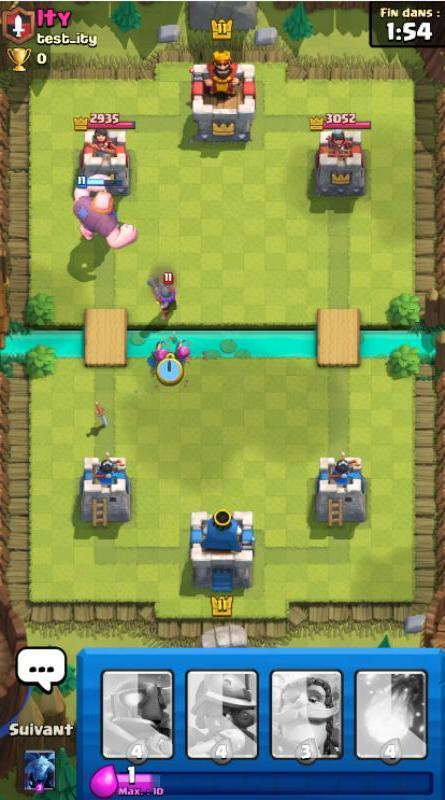enemy_musketeer: (147, 271, 181, 315)
player_archers: (146, 336, 170, 371), (171, 335, 193, 368)
player_giant: (69, 178, 140, 252)
